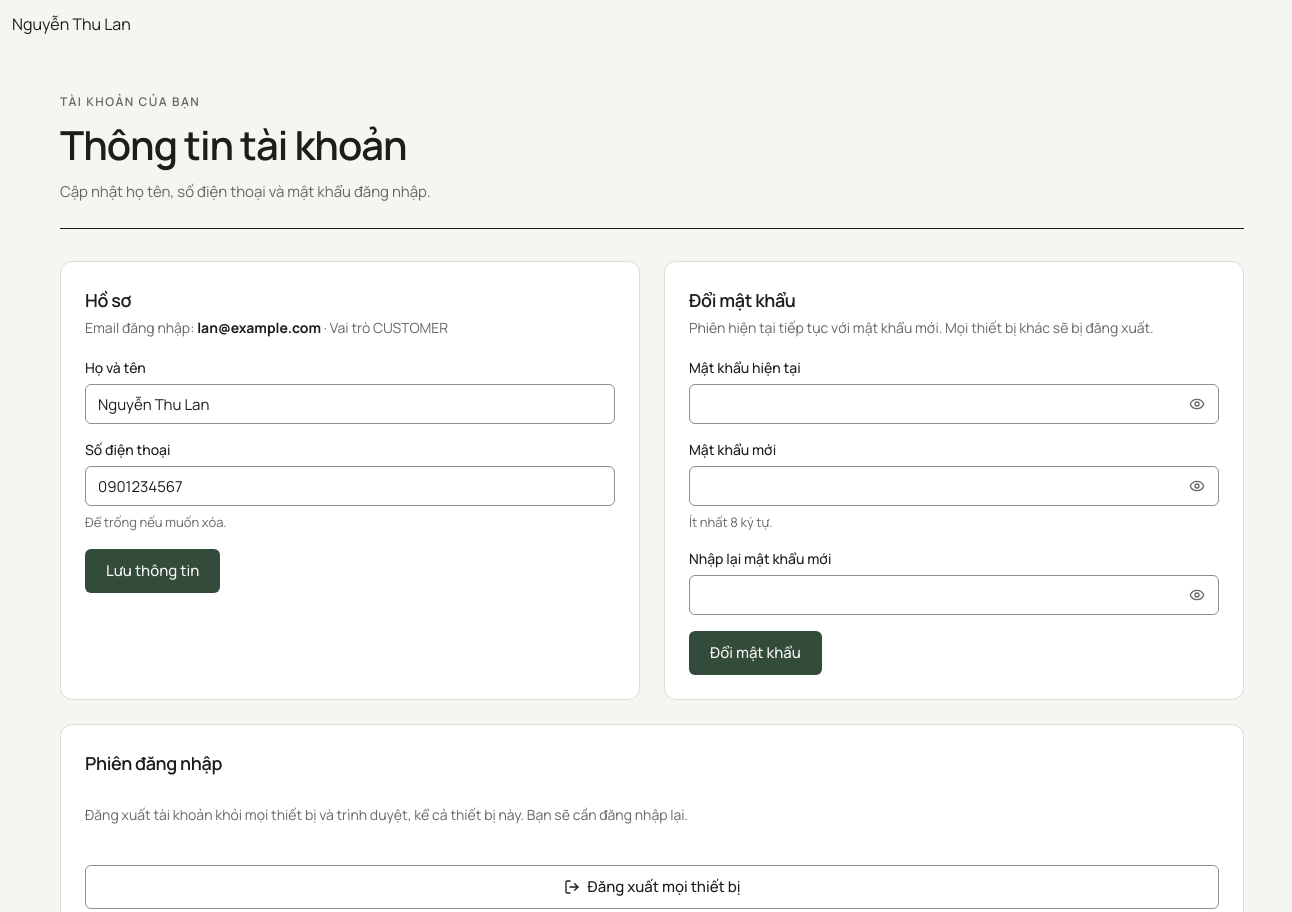
AccountPage and profile hydration (CWB-63) › blocks an empty name client-side and surfaces server validation errors
This screenshot has width=1292, height=912.
Clear the field labelled "Họ và tên". click: [350, 404]
box: [85,384,615,424]
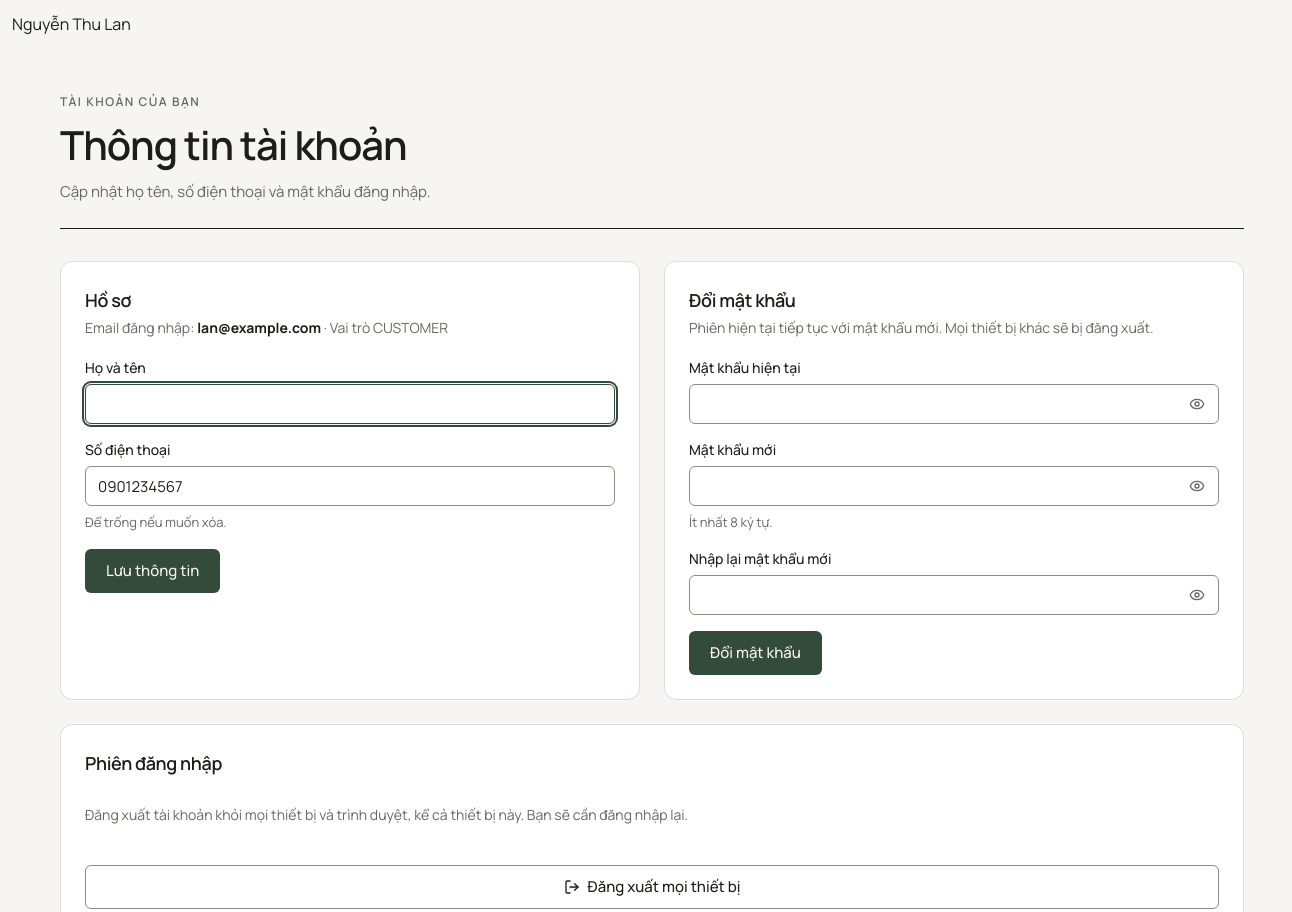
Click the button "Lưu thông tin". click: [153, 571]
box: [85,549,220,593]
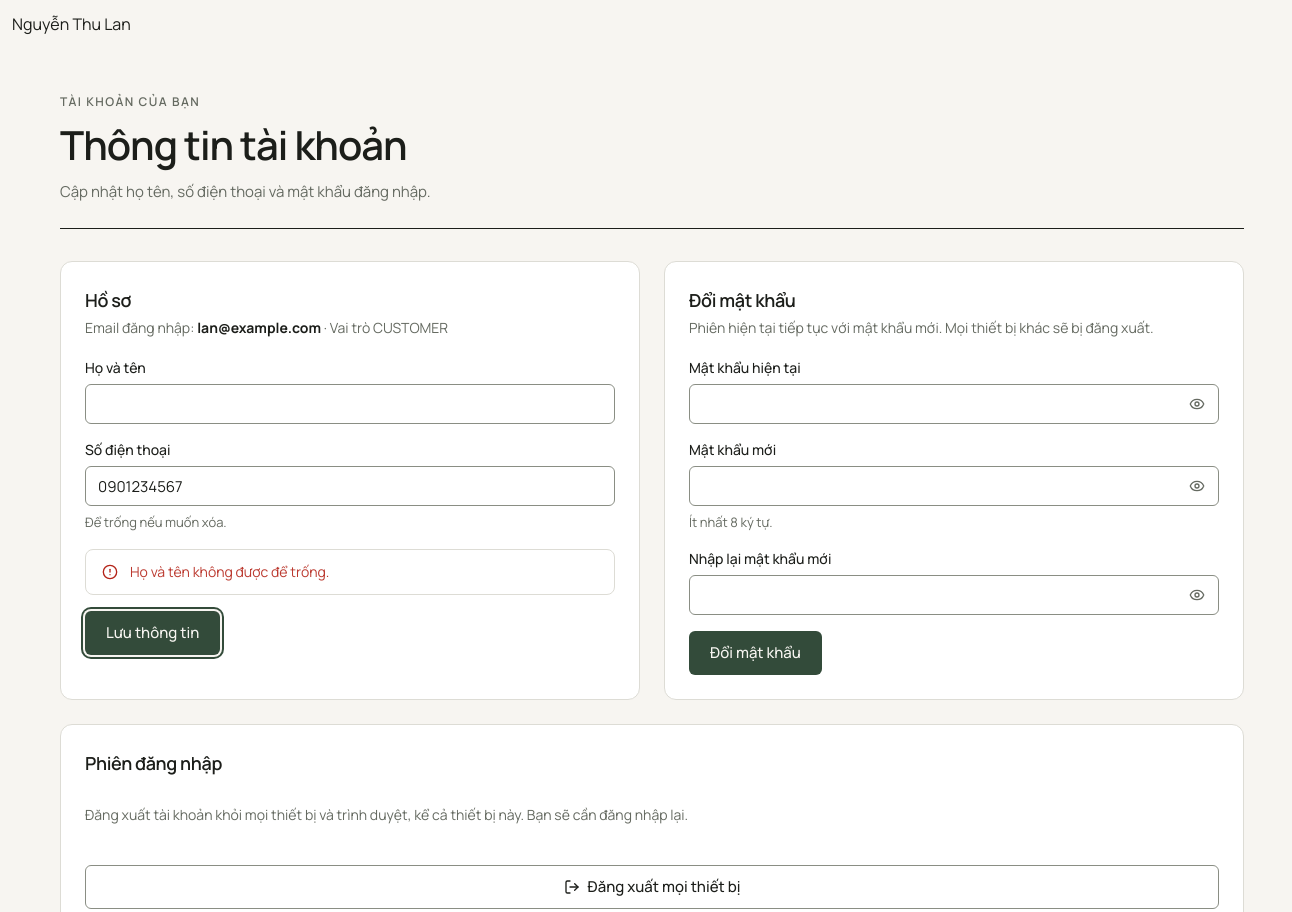
Expected: the message with test id "account-profile-error" shows "không được để trống", [130,562,329,581]
